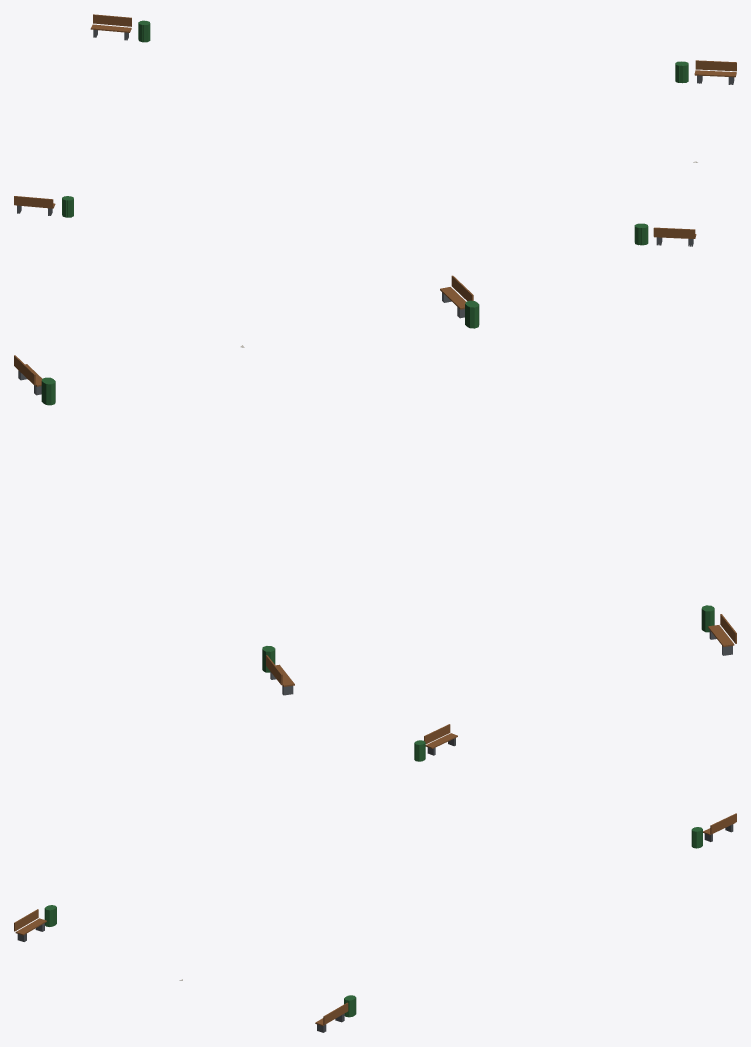
The model's file is sf_lgs3.glb.
3 renders of one model, top to bottom at view 1: azimuth 30°, elevation 25°; view 2: azimuth 150°, elevation 25°; view 3: azimuth 270°, elevation 25°, orthographic. The views are drawn at different scales.
Parts seen in each view (by area): view 1: sf_lgs3_lod0; view 2: sf_lgs3_lod0; view 3: sf_lgs3_lod0.
Boxes of the visible parts, x1=… form: sf_lgs3_lod0: x1=14, y1=14, x2=736, y2=246; sf_lgs3_lod0: x1=14, y1=275, x2=736, y2=695; sf_lgs3_lod0: x1=14, y1=724, x2=736, y2=1032.
Size of what is drawn, in the model's own units: 35.95 by 2.02 by 35.12.
